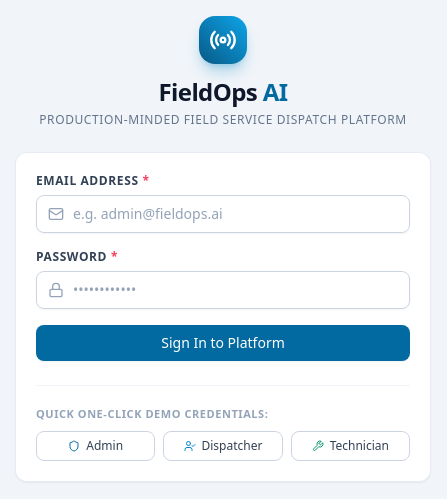
Test: LoginView Component › populates demo credentials when clicking demo buttons
The width and height of the screenshot is (447, 499).
Click the button "Admin" at (96, 446), box [36,431,155,461]
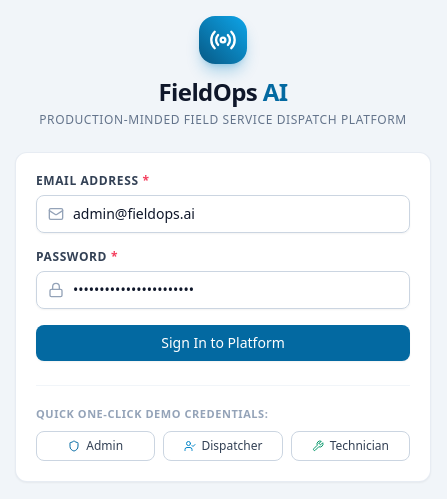
Result: the field labelled "Email Address*" holds "admin@fieldops.ai" at [36,195,410,233]
Result: the password field labelled "Password*" holds "AdminSecurePassword123!" at [36,271,410,309]
